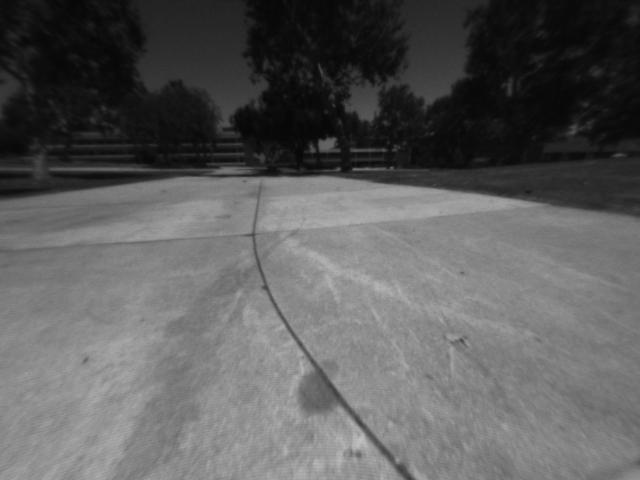dogtoy: (520, 180, 538, 197)
